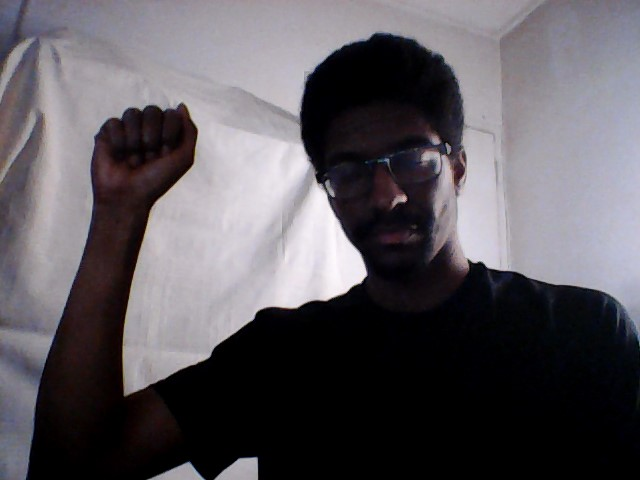a: (88, 101, 201, 202)
